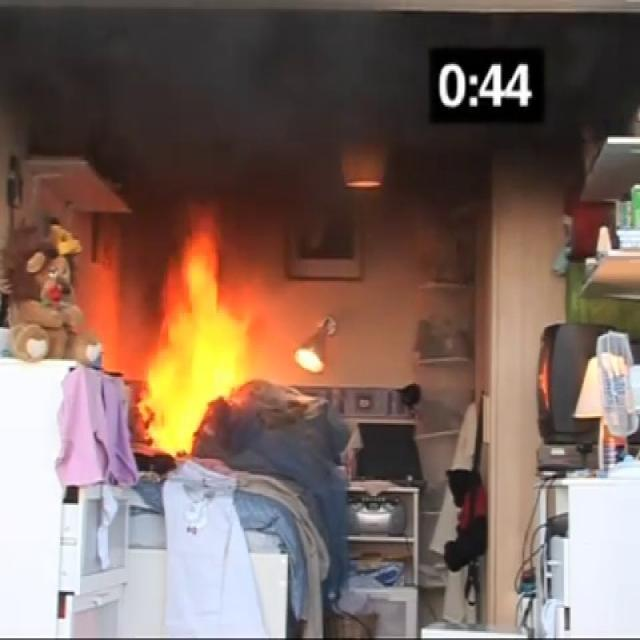Fire: (110, 229, 284, 442)
Smoke: (37, 14, 328, 156)
